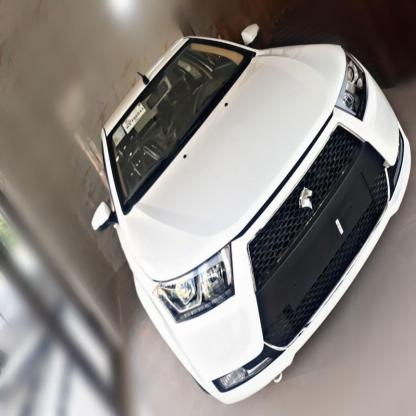Car: (92, 15, 416, 393)
